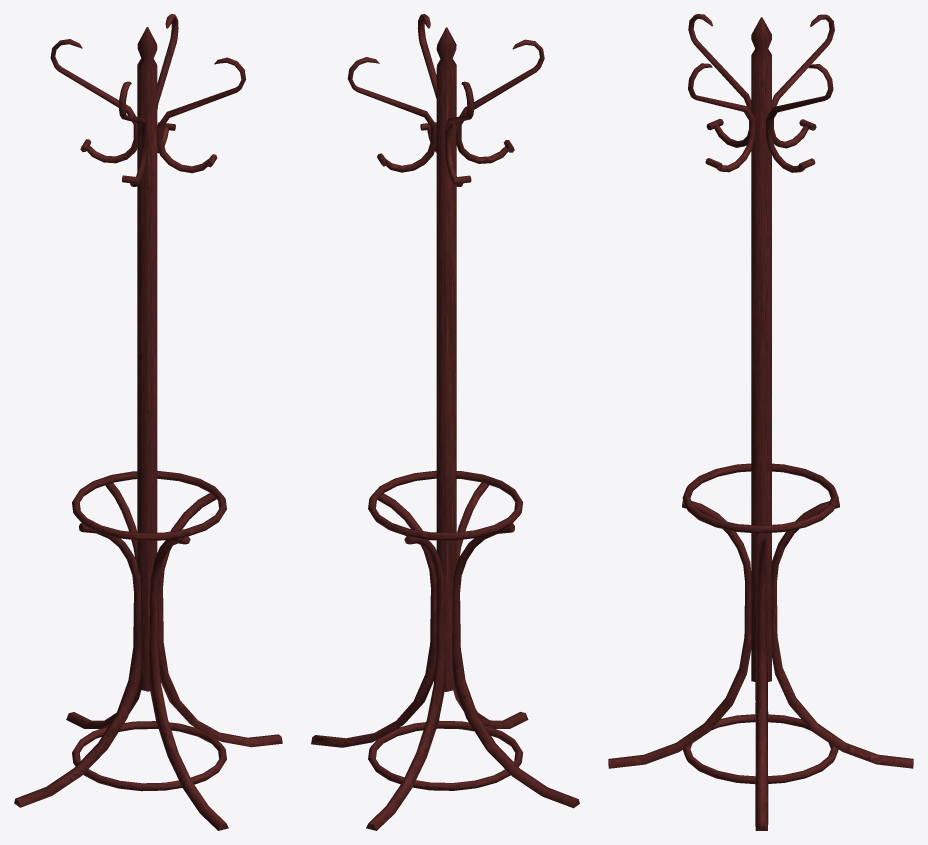
Rendered from hanger.glb.
The picture shows the model from 3 angles, left to right: view 1: azimuth 30°, elevation 25°; view 2: azimuth 150°, elevation 25°; view 3: azimuth 270°, elevation 25°; orthographic projection.
Visible parts, largest first — view 1: CoatHanger_CoatHanger_0; view 2: CoatHanger_CoatHanger_0; view 3: CoatHanger_CoatHanger_0.
Part boxes in pixels (box(x1,y1,x2,y2)): CoatHanger_CoatHanger_0: box(14, 14, 282, 830); CoatHanger_CoatHanger_0: box(311, 14, 579, 830); CoatHanger_CoatHanger_0: box(608, 14, 913, 830).
Size of the model in its own units: 0.6972 by 1.89 by 0.6983.
Materials: 1 (1 with a texture image).
